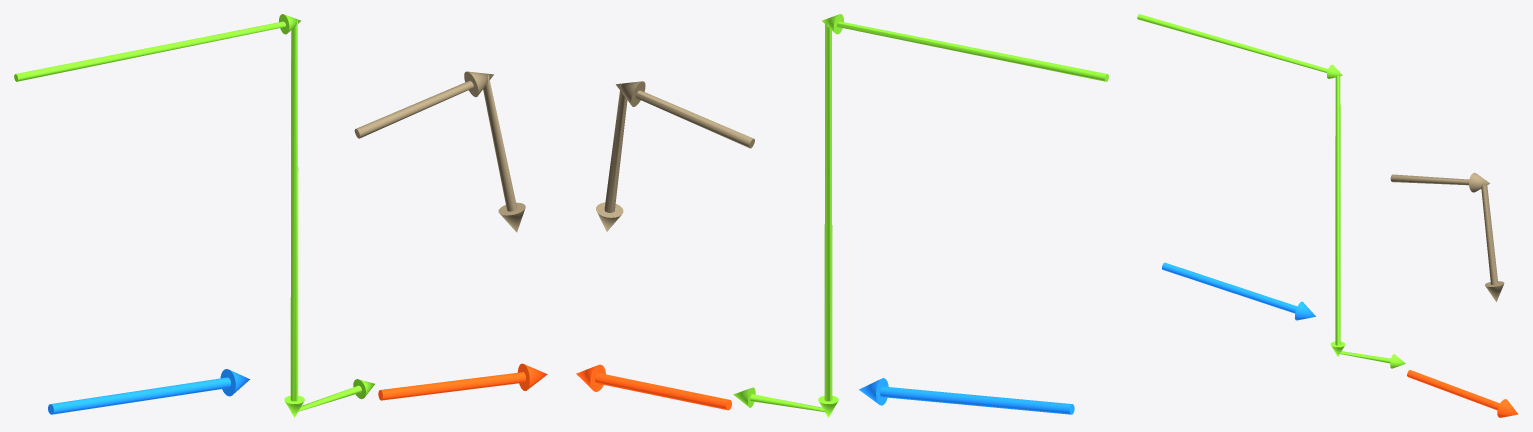
The model's file is flotation_cell_flow.glb.
3 renders of one model, left to right at view 1: azimuth 30°, elevation 25°; view 2: azimuth 150°, elevation 25°; view 3: azimuth 330°, elevation 25°, orthographic. The views are drawn at different scales.
Parts seen in each view (by area): view 1: air, concentrate_froth, feed, tailings; view 2: air, concentrate_froth, feed, tailings; view 3: air, concentrate_froth, feed, tailings.
Part boxes in pixels (x1,y1,x2,y2): air: [14, 14, 374, 417]; concentrate_froth: [354, 71, 525, 232]; feed: [48, 369, 249, 414]; tailings: [378, 363, 547, 400]; air: [733, 14, 1108, 417]; concentrate_froth: [596, 81, 754, 231]; feed: [859, 378, 1074, 414]; tailings: [576, 364, 731, 410]; air: [1137, 14, 1405, 368]; concentrate_froth: [1390, 172, 1504, 301]; feed: [1162, 262, 1315, 320]; tailings: [1407, 370, 1518, 417].
Size of the model in its own units: 2.29 by 1.81 by 0.1493.
